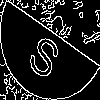S: (25, 25, 67, 82)
